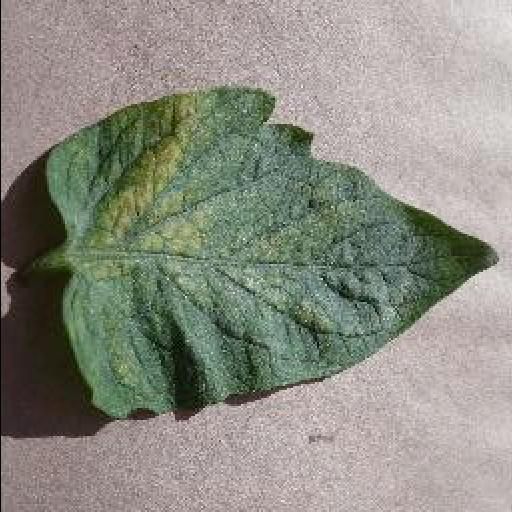disease_tomato: (43, 88, 501, 422)
